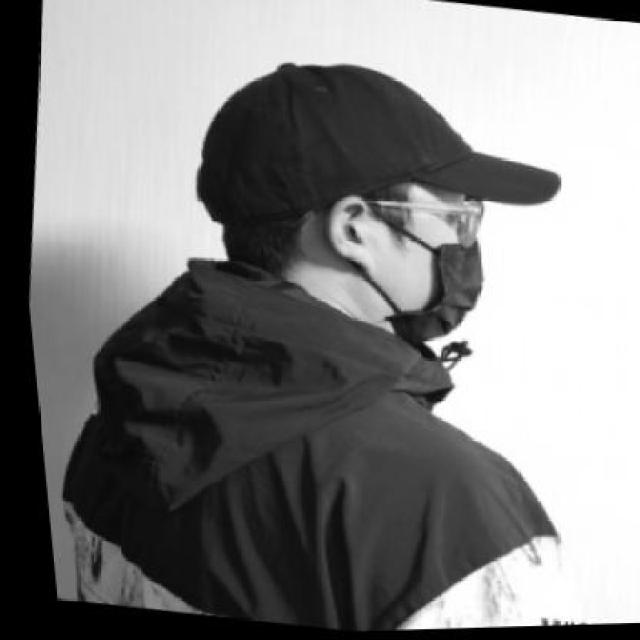hat: (174, 35, 583, 268)
